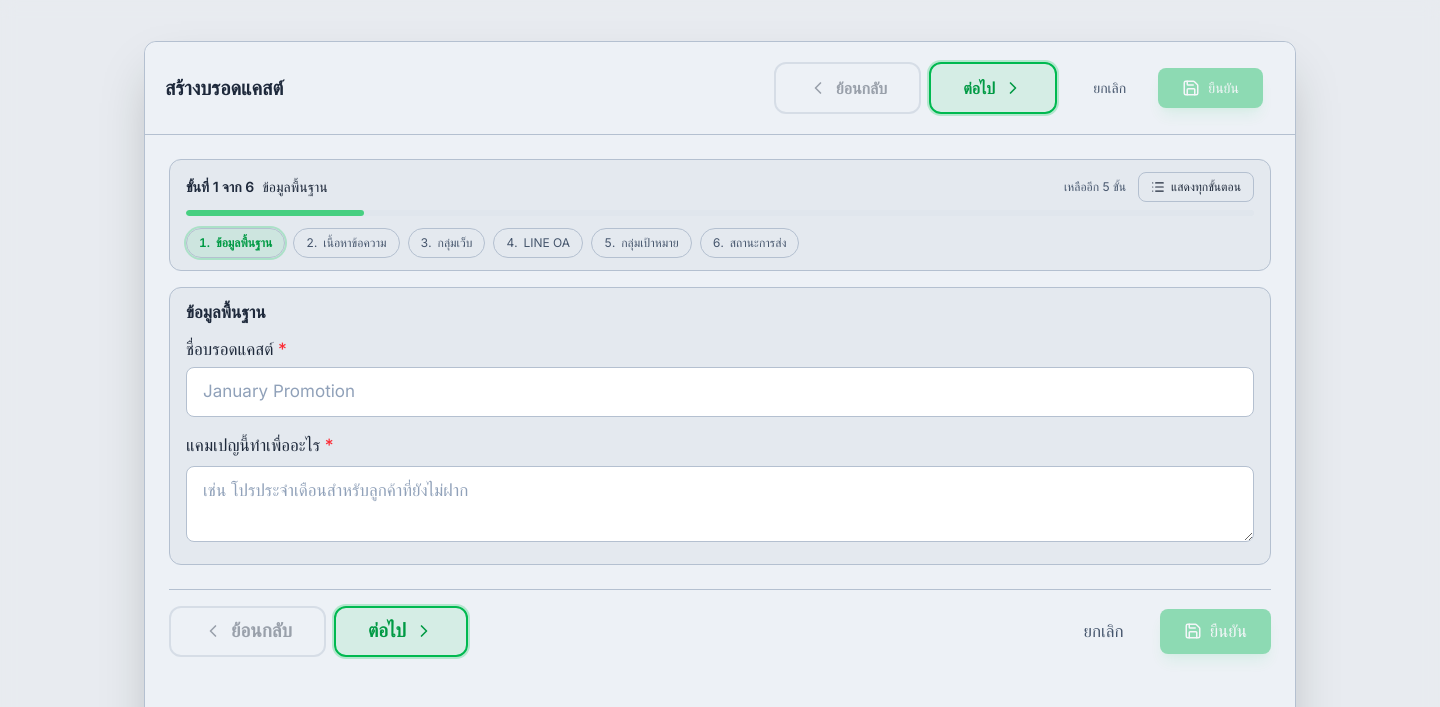
Test case: [FIX-20260824-PICKERSAME] ช่องเลือกทุกช่องค้นหาได้เหมือนกันหมด › ⭐ "กลุ่มเว็บ" (assign_group) มีช่องค้นหา — เมื่อก่อนเป็น <select> เปล่า
Click the button with test id "-toggle" at x=1196, y=186, box [1138,172,1254,202]
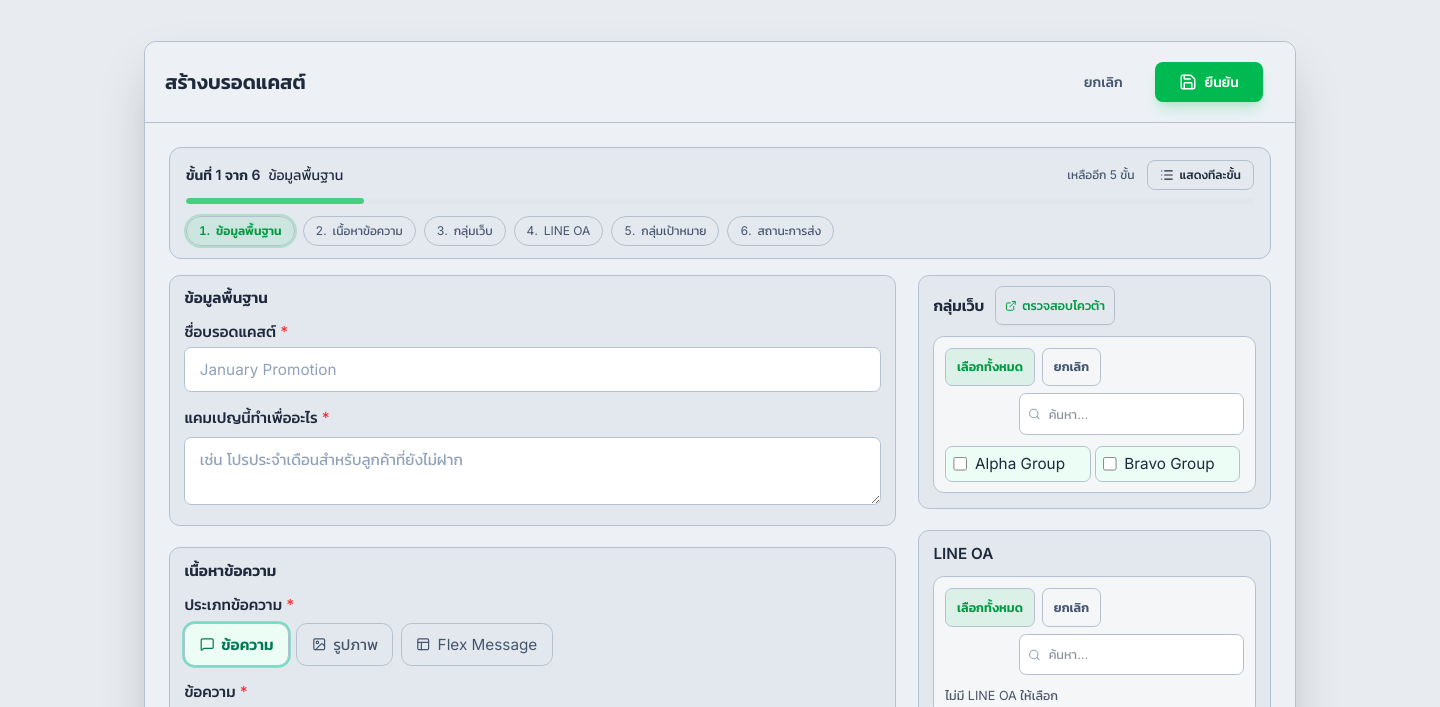
Expected: the 1st field with placeholder "ค้นหา…" is shown, [1019,394,1244,435]
